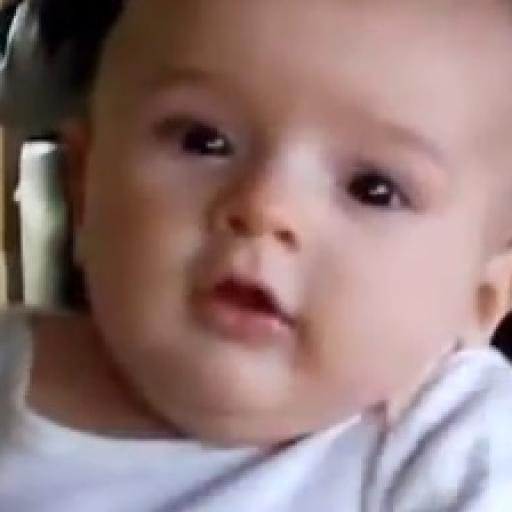Autism: (80, 30, 512, 470)
